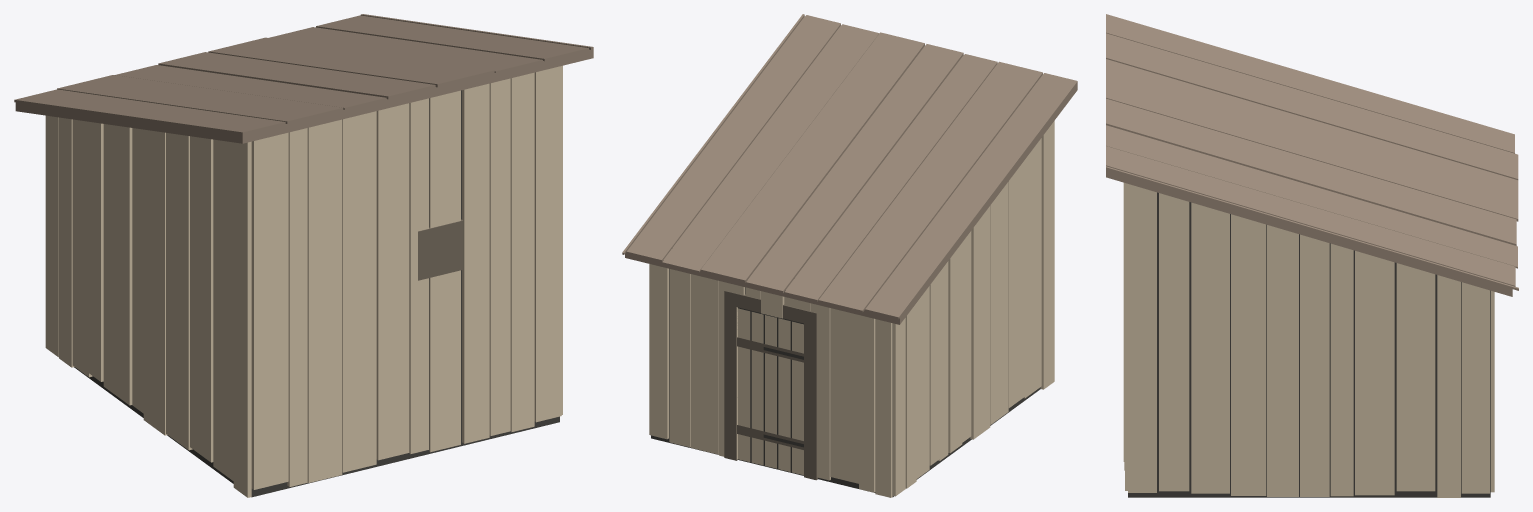
The model's file is recon_1835_blk_washington_clinton_a5_07__inferred_1835.glb.
The picture shows the model from 3 angles, left to right: view 1: azimuth 30°, elevation 25°; view 2: azimuth 150°, elevation 25°; view 3: azimuth 270°, elevation 25°; orthographic projection. The views are drawn at different scales.
Parts seen in each view (by area): view 1: recon_1835_blk_washington_clinton_a5_07__inferred_1835; view 2: recon_1835_blk_washington_clinton_a5_07__inferred_1835; view 3: recon_1835_blk_washington_clinton_a5_07__inferred_1835.
Part boxes in pixels (x1,y1,x2,y2): recon_1835_blk_washington_clinton_a5_07__inferred_1835: (14, 14, 593, 497); recon_1835_blk_washington_clinton_a5_07__inferred_1835: (622, 14, 1077, 497); recon_1835_blk_washington_clinton_a5_07__inferred_1835: (1106, 14, 1518, 497).
Bounding box in the file's own units: 3.52 × 3.64 × 4.
